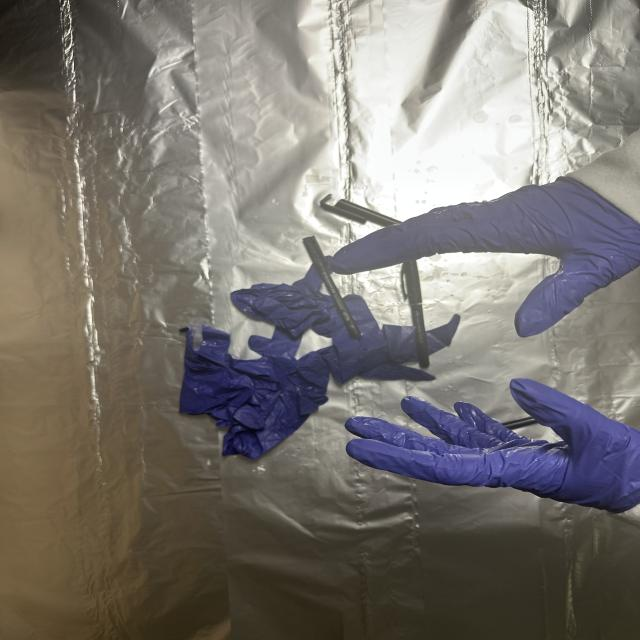gloves_contaminated: (332, 178, 640, 337), (345, 378, 640, 514)
